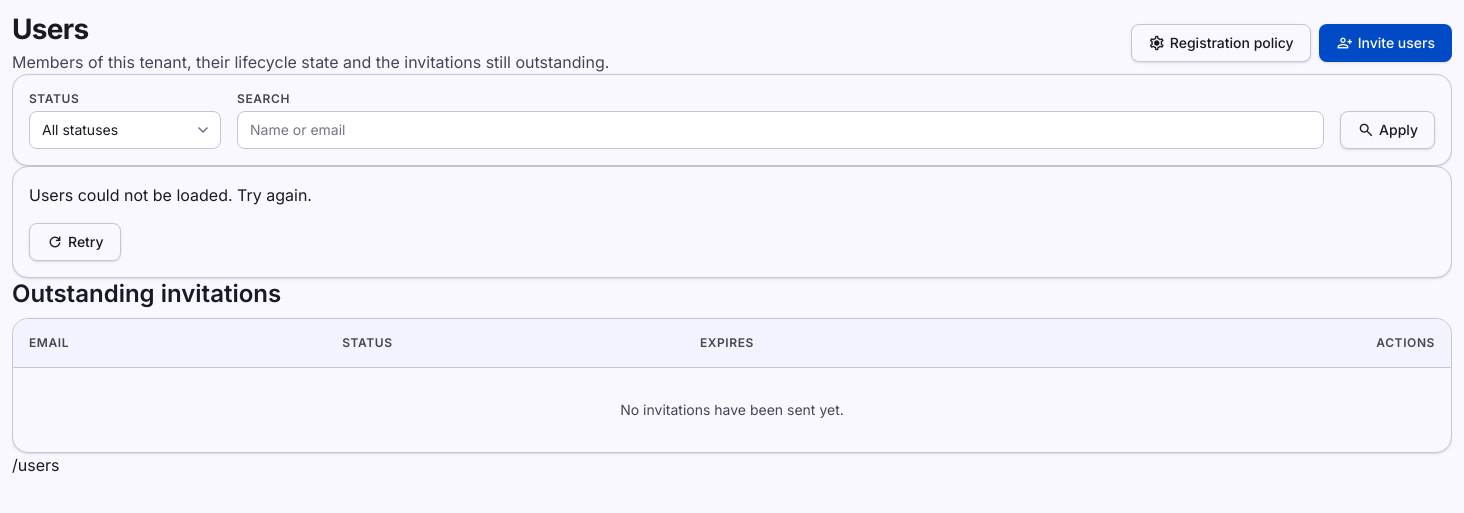
Test: UsersPage › retries a failed listing without rendering the raw error
Expected: the text "Users could not be loaded. Try again." is shown, [29,183,312,207]
Click the button "Retry": x=75, y=242 [29,223,121,261]
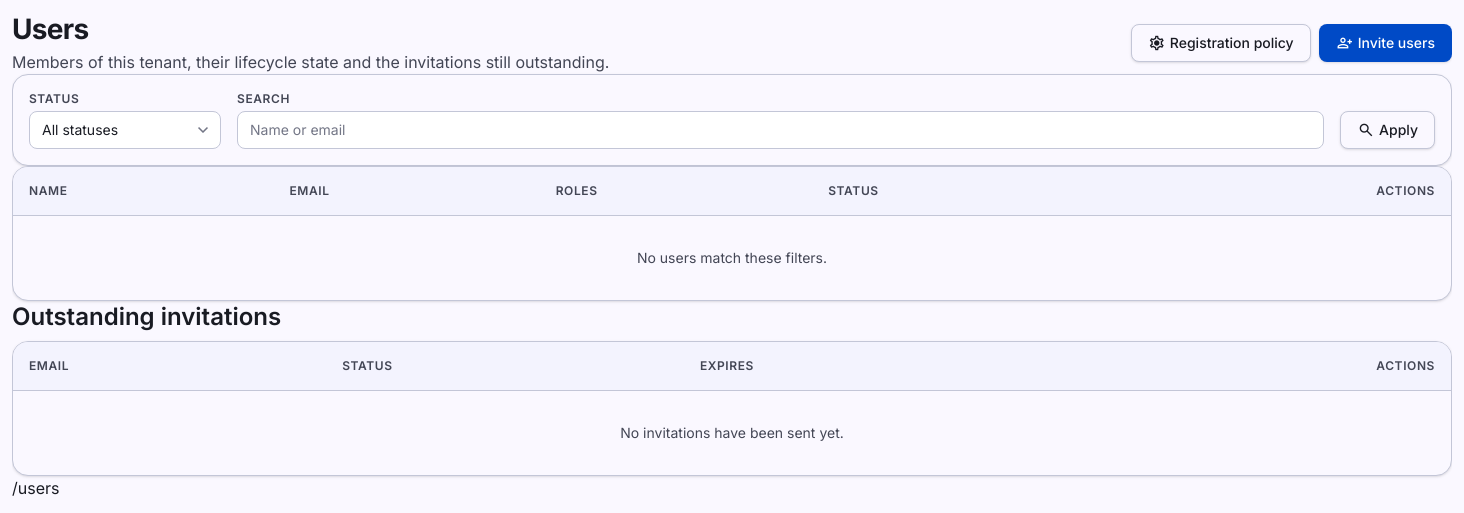
Expected: the text "No users match these filters." is shown, [13,216,1451,300]
